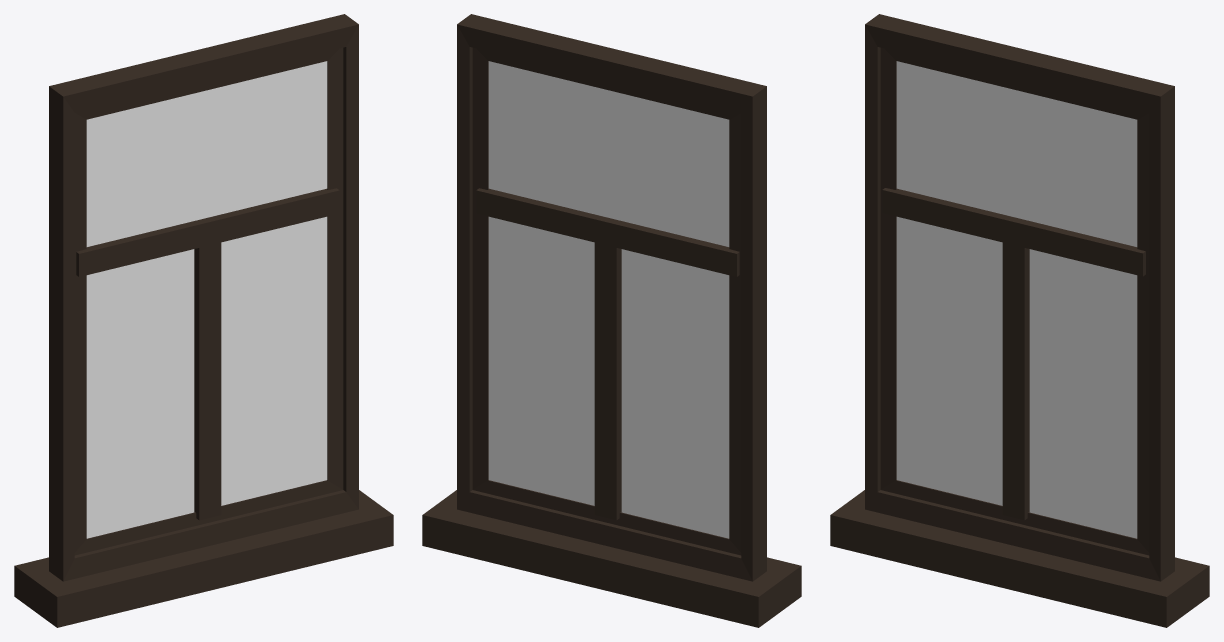
Rendered from Ventana.fbx.
3 renders of one model, left to right at view 1: azimuth 30°, elevation 25°; view 2: azimuth 150°, elevation 25°; view 3: azimuth 330°, elevation 25°, orthographic.
Visible parts, largest first — view 1: Cube.002, Cube, Cube.001, Cube.003, Cube.004; view 2: Cube.002, Cube, Cube.001, Cube.003, Cube.004; view 3: Cube.002, Cube, Cube.001, Cube.003, Cube.004.
Part boxes in pixels (x1,y1,x2,y2): Cube.002: (86,61,327,538); Cube: (49,14,358,581); Cube.001: (14,490,393,627); Cube.003: (194,242,221,520); Cube.004: (76,188,339,276); Cube.002: (488,61,729,538); Cube: (457,14,766,581); Cube.001: (422,490,801,627); Cube.003: (594,242,621,520); Cube.004: (476,188,739,276); Cube.002: (896,61,1137,538); Cube: (865,14,1174,581); Cube.001: (830,490,1209,627); Cube.003: (1002,242,1029,520); Cube.004: (882,188,1145,276).
Size of the model in its own units: 68.2 by 100 by 15.
